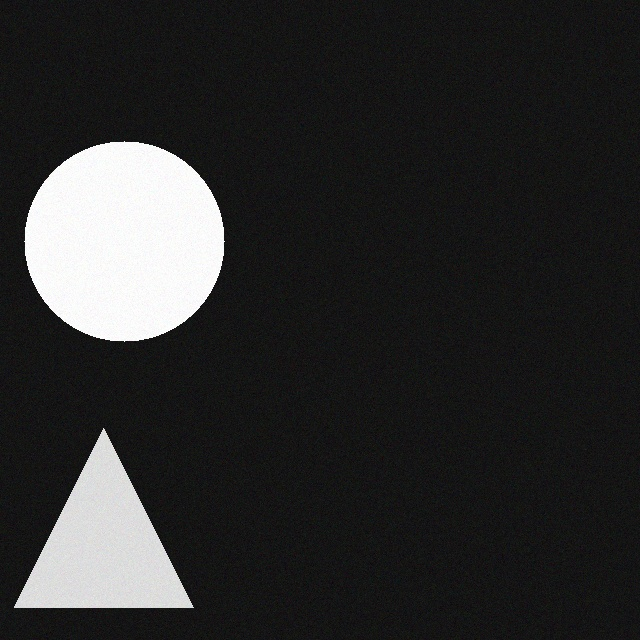circle: (37, 148, 237, 348), (117, 185, 225, 293)
triangle: (27, 435, 206, 614)
